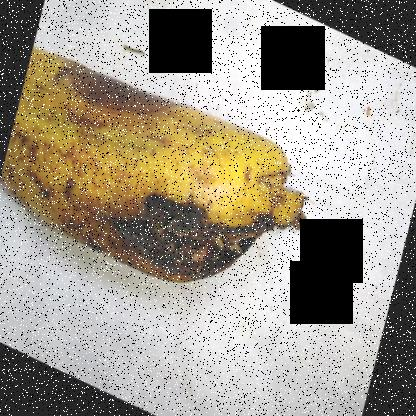ripe: (0, 42, 289, 200)
rotten: (88, 190, 286, 300), (47, 26, 194, 139)
